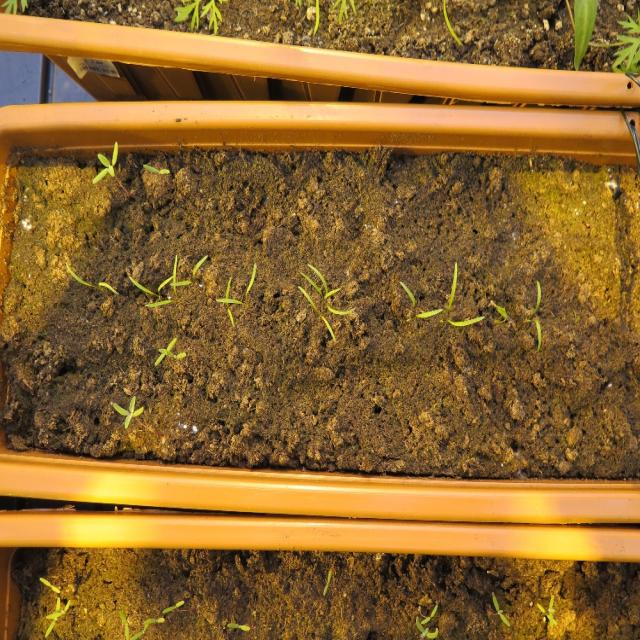crop: (444, 256, 485, 328), (63, 259, 120, 296), (397, 276, 442, 320), (530, 276, 542, 352)
weed: (91, 139, 118, 185), (110, 392, 142, 429), (490, 591, 510, 628), (38, 575, 60, 593), (142, 162, 170, 174), (162, 598, 184, 613), (226, 620, 250, 632), (322, 568, 331, 596)
